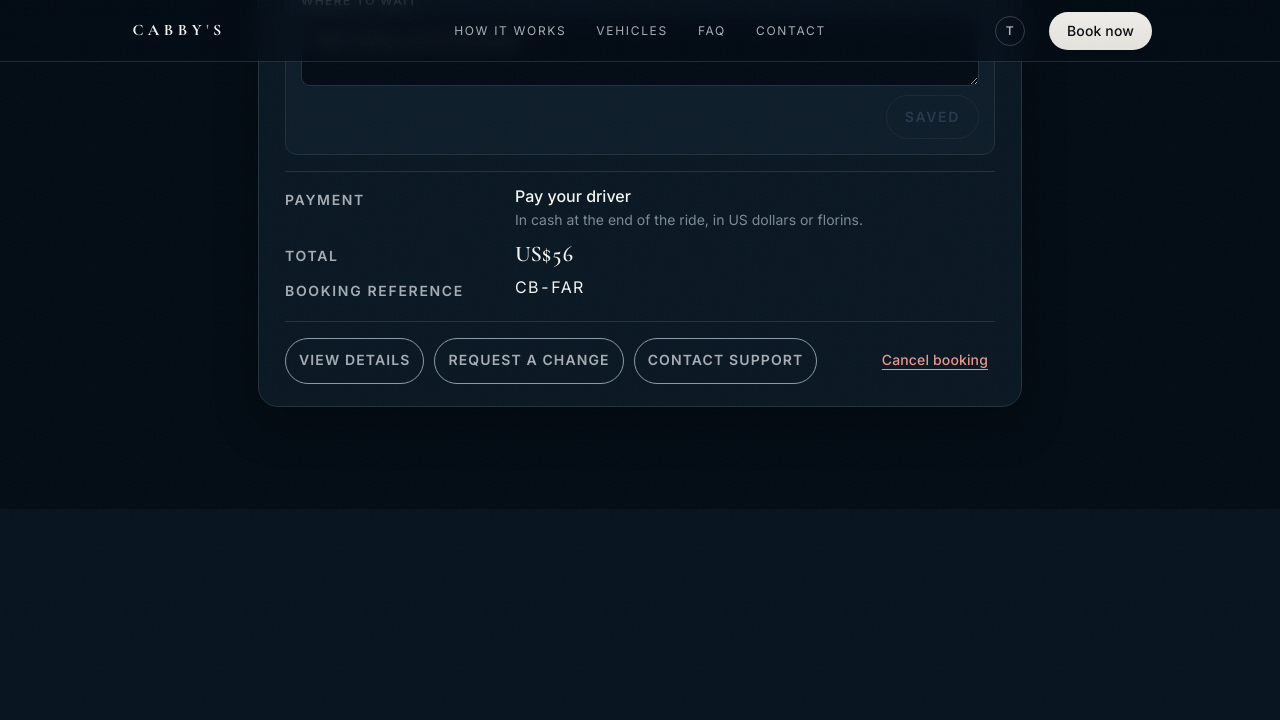
cancelling › states what happens to the money before the guest commits
This screenshot has width=1280, height=720.
(page scrolled)
What coordinates should you click on to do the following:
click the button "Cancel booking"
I would click on:
 (935, 360)
Its box is top-left (875, 338), bottom-right (995, 384).
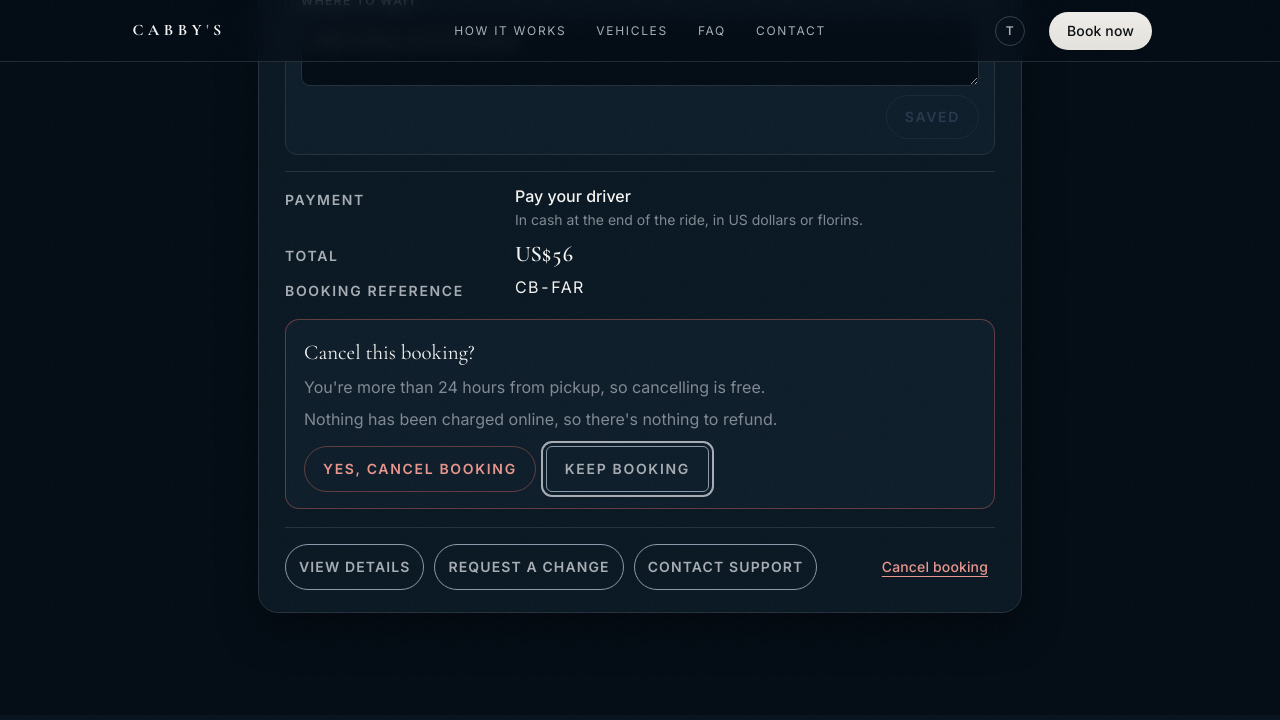
Now the text "cancelling is free" is shown, box top-left (304, 377), bottom-right (765, 397)
Now the text "Nothing has been charged online" is shown, box top-left (304, 409), bottom-right (777, 429)
